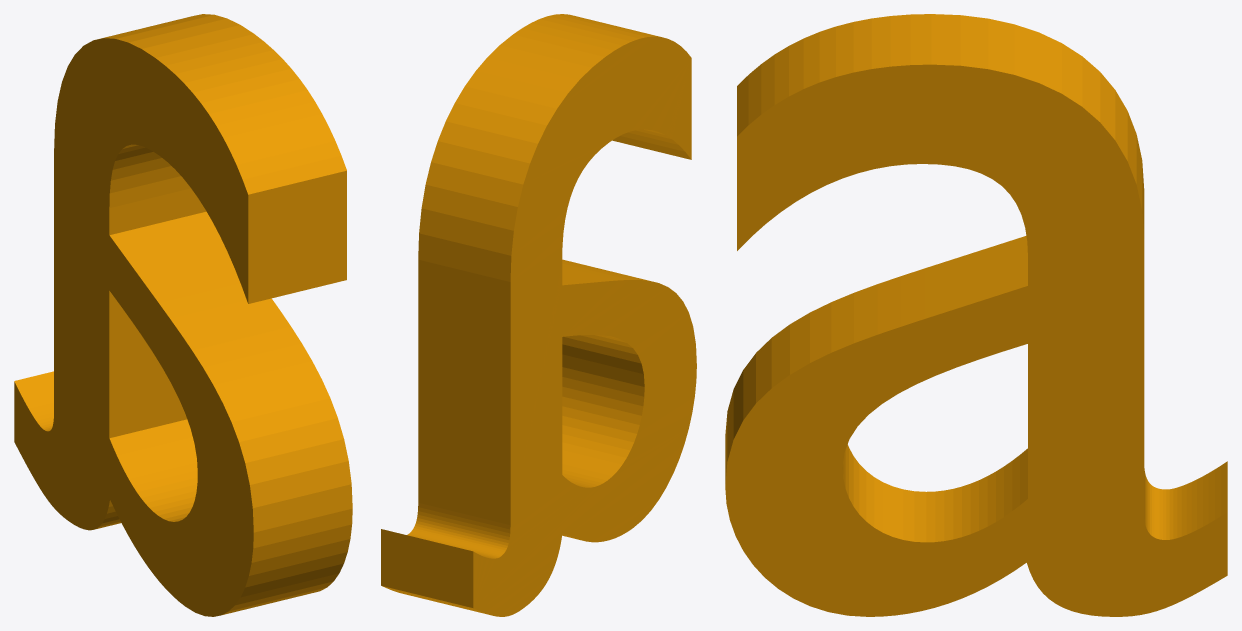
File: letter(aa).fbx
3 renders of one model, left to right at view 1: azimuth 30°, elevation 25°; view 2: azimuth 150°, elevation 25°; view 3: azimuth 270°, elevation 25°, orthographic. The views are drawn at different scales.
Parts seen in each view (by area): view 1: Text; view 2: Text; view 3: Text.
Boxes of the visible parts, bbox=[...] form: Text: bbox=[14, 14, 352, 616]; Text: bbox=[381, 14, 696, 616]; Text: bbox=[725, 14, 1227, 616].
Size of the model in its own units: 9.18 by 46.7 by 38.5.
